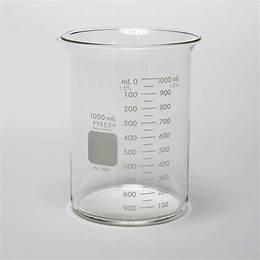Beaker: (56, 23, 202, 228)
